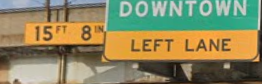1: (31, 23, 40, 42)
5: (41, 24, 53, 42)
8: (77, 23, 92, 42)
overheadsign: (23, 21, 117, 45)
